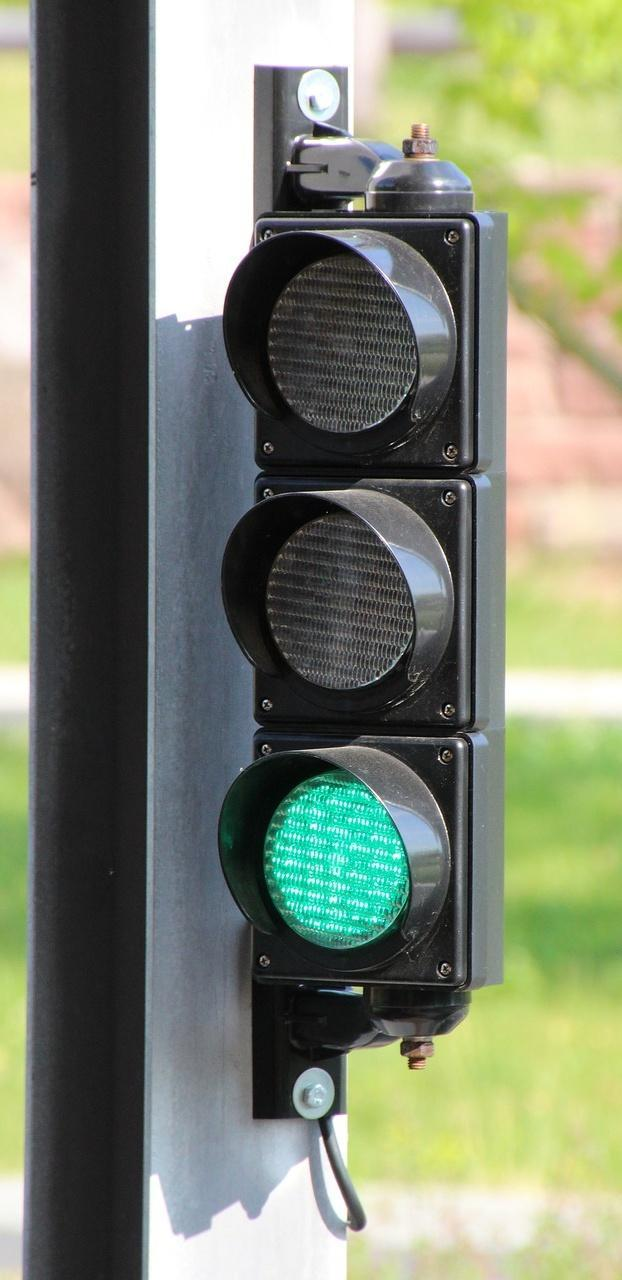green: (230, 193, 487, 1010)
